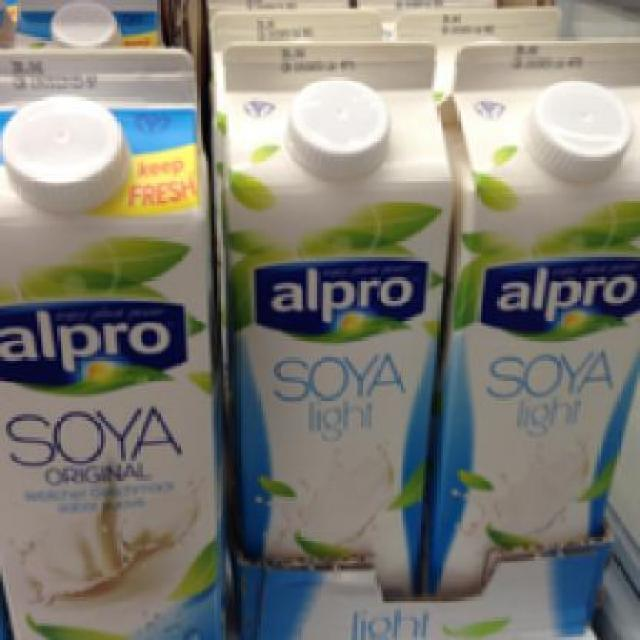Milk: (0, 44, 232, 638), (214, 40, 440, 606), (434, 37, 634, 637)
